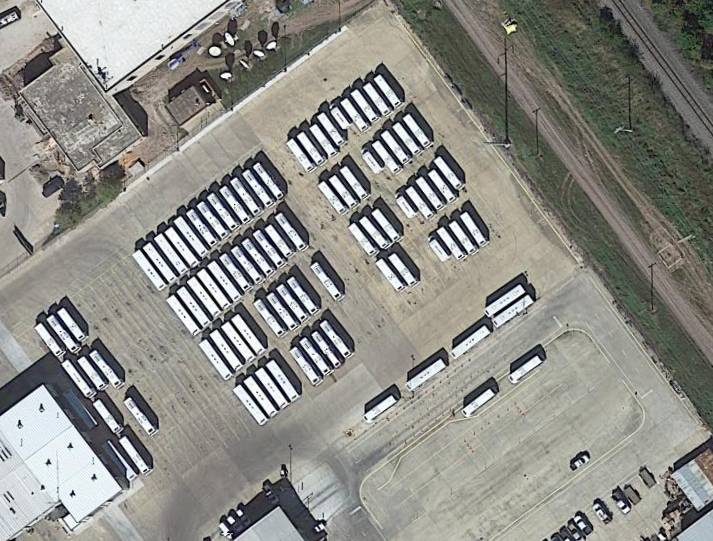large vehicle: (165, 294, 202, 339), (196, 268, 233, 312), (187, 276, 224, 320), (176, 285, 212, 330), (207, 261, 244, 304), (142, 242, 179, 285), (101, 440, 138, 483), (154, 233, 190, 277), (252, 299, 289, 341), (46, 314, 83, 356), (209, 330, 245, 373), (265, 291, 301, 334), (241, 237, 277, 280), (198, 339, 234, 382), (118, 435, 154, 478), (63, 388, 99, 431), (89, 349, 125, 392), (233, 384, 269, 427), (491, 294, 534, 330), (174, 216, 210, 259), (164, 226, 200, 269), (231, 313, 266, 357), (482, 284, 526, 319), (221, 322, 257, 364), (319, 319, 355, 361), (61, 359, 97, 401), (449, 325, 491, 361), (244, 376, 279, 419), (255, 367, 290, 410), (132, 250, 167, 293), (286, 276, 322, 317), (196, 201, 232, 242), (275, 212, 310, 254), (310, 262, 345, 304), (231, 245, 266, 287), (124, 397, 159, 439), (265, 360, 300, 402), (289, 346, 324, 388), (299, 336, 334, 378), (186, 208, 221, 250), (404, 359, 447, 393), (252, 229, 287, 270), (207, 192, 241, 234), (276, 284, 311, 324), (218, 252, 252, 293), (242, 169, 275, 210), (229, 176, 262, 217), (220, 185, 253, 226), (252, 162, 285, 201), (77, 355, 110, 393), (317, 179, 350, 217), (92, 399, 125, 436), (311, 331, 343, 369), (358, 215, 391, 251), (264, 224, 296, 261), (35, 322, 67, 359), (371, 140, 403, 177), (460, 387, 496, 419), (380, 130, 412, 166), (328, 174, 360, 210), (57, 307, 88, 344), (375, 258, 406, 295), (339, 165, 370, 202), (285, 138, 316, 175), (340, 97, 371, 134), (392, 122, 423, 158), (387, 252, 418, 288), (404, 185, 435, 221), (372, 73, 403, 109), (427, 168, 457, 205), (296, 130, 326, 167), (371, 208, 402, 243), (403, 113, 433, 149), (507, 354, 543, 384), (309, 123, 339, 159), (362, 82, 392, 118), (317, 111, 346, 148), (362, 394, 397, 424), (348, 222, 378, 257), (447, 220, 477, 255), (415, 176, 445, 211), (436, 226, 465, 262), (434, 156, 463, 191), (350, 89, 379, 124), (459, 211, 487, 247)
